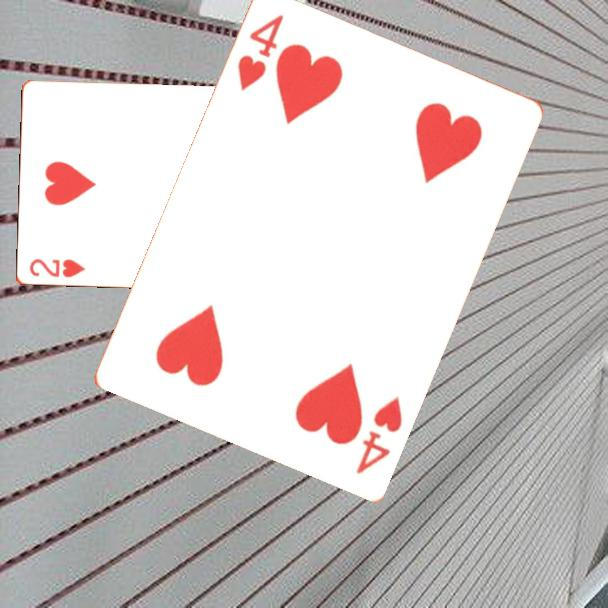h02: (25, 255, 88, 281)
h04: (233, 10, 287, 94), (352, 391, 405, 476)
